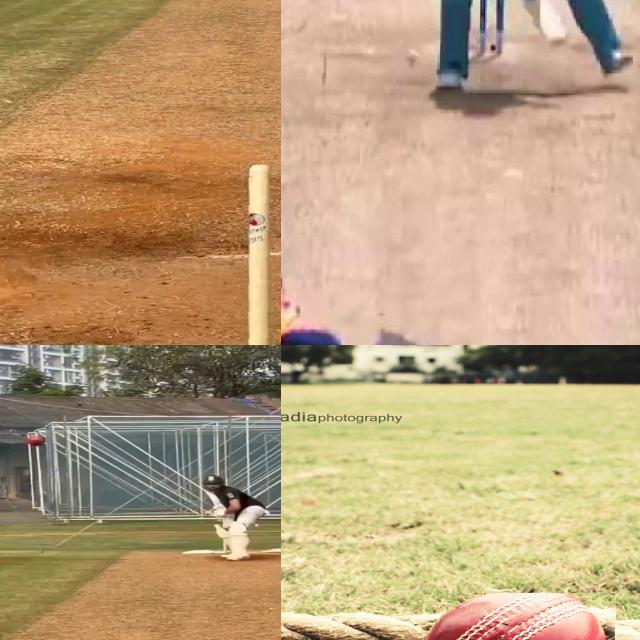Cricket ball: (418, 592, 617, 640), (404, 49, 421, 72)
Stumps: (244, 164, 281, 345), (26, 436, 45, 447)
